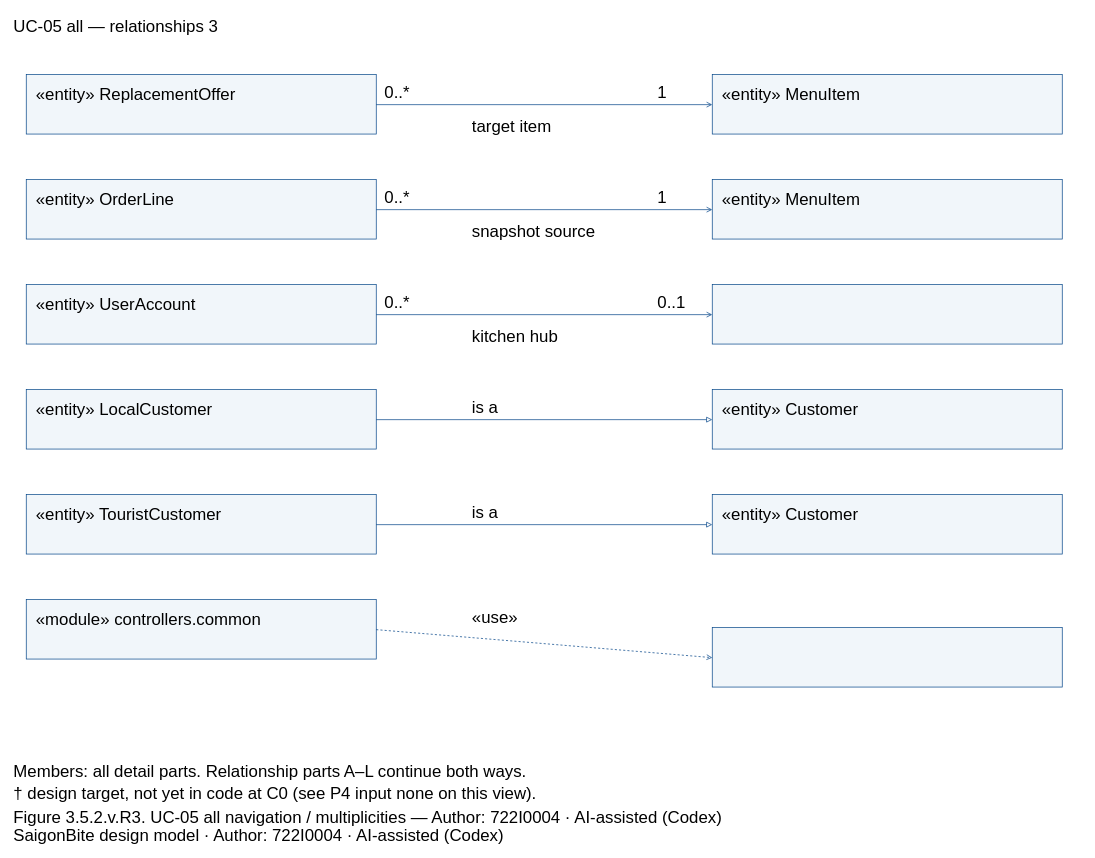
This 1095x858 diagram has some shape labels left out. The centre of each missing label's shape, as x and y in pixels:
«entity» Hub: point (887, 314)
«entity» Order: point (887, 657)
